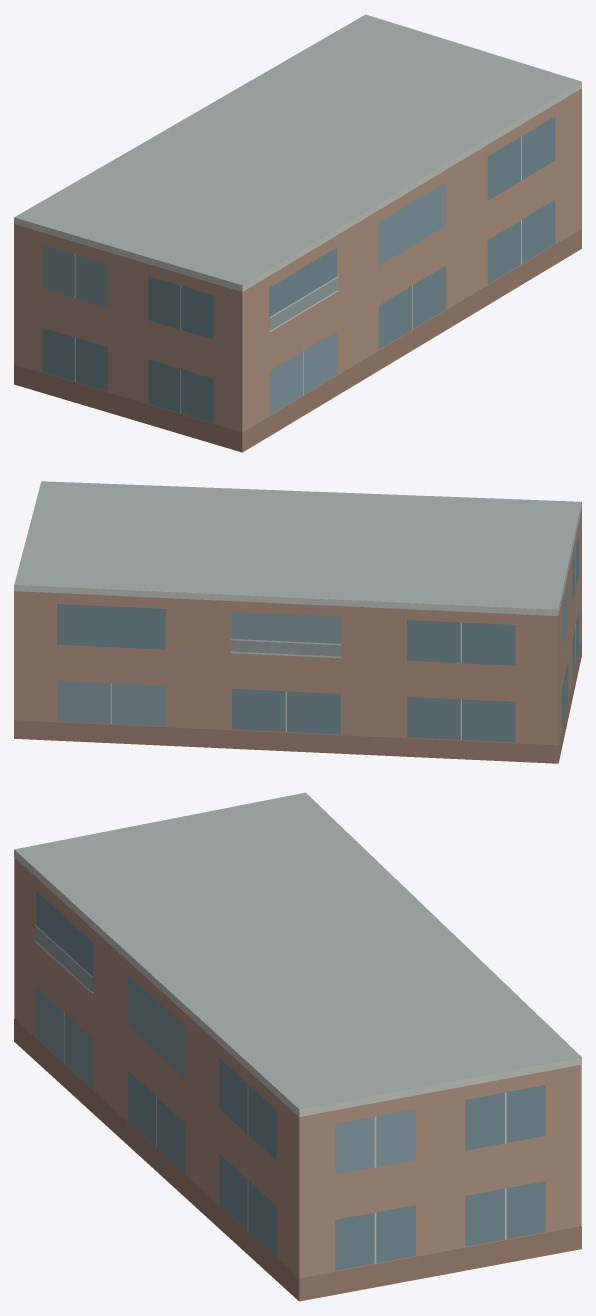
File: survey-upis-32503674.glb
The picture shows the model from 3 angles, top to bottom: view 1: azimuth 30°, elevation 25°; view 2: azimuth 150°, elevation 25°; view 3: azimuth 270°, elevation 25°; orthographic projection. The views are drawn at different scales.
Parts seen in each view (by area): view 1: survey-upis-32503674.tmp; view 2: survey-upis-32503674.tmp; view 3: survey-upis-32503674.tmp.
Part boxes in pixels (x1,y1,x2,y2): survey-upis-32503674.tmp: (14,14,581,452); survey-upis-32503674.tmp: (14,481,581,763); survey-upis-32503674.tmp: (14,792,581,1301).
Bounding box in the file's own units: 21.59 × 6.1 × 16.35.
